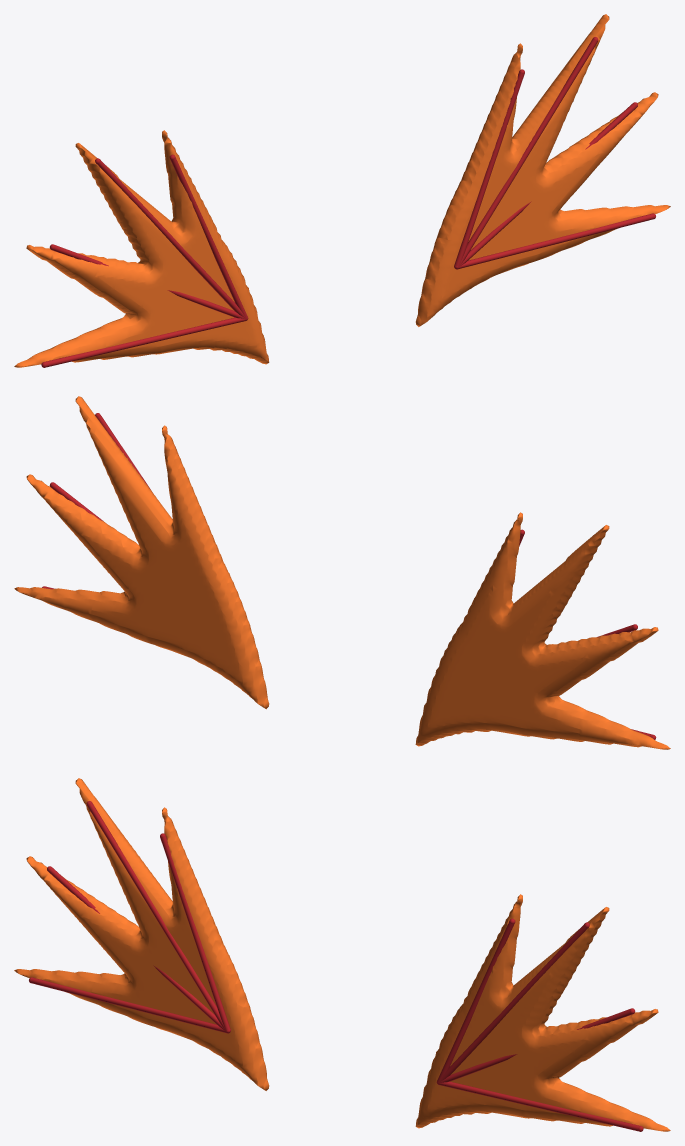
Rendered from wings-feather.glb.
The picture shows the model from 3 angles, top to bottom: view 1: azimuth 30°, elevation 25°; view 2: azimuth 150°, elevation 25°; view 3: azimuth 330°, elevation 25°; orthographic projection.
Parts seen in each view (by area): view 1: wings_2_solid, wings_0_solid, wings_3_line, wings_1_line; view 2: wings_2_solid, wings_0_solid, wings_3_line; view 3: wings_0_solid, wings_2_solid, wings_1_line, wings_3_line.
Boxes of the visible parts, x1,y1,x2,y2 form: wings_2_solid: (415, 14, 670, 326); wings_0_solid: (14, 130, 269, 367); wings_3_line: (454, 37, 655, 269); wings_1_line: (41, 154, 248, 367); wings_2_solid: (14, 396, 269, 709); wings_0_solid: (415, 512, 670, 749); wings_3_line: (42, 413, 178, 589); wings_0_solid: (14, 778, 269, 1090); wings_2_solid: (415, 894, 670, 1131); wings_1_line: (29, 801, 230, 1033); wings_3_line: (436, 918, 643, 1131).
Bounding box in the file's own units: 1.99 × 0.7726 × 0.0911.
